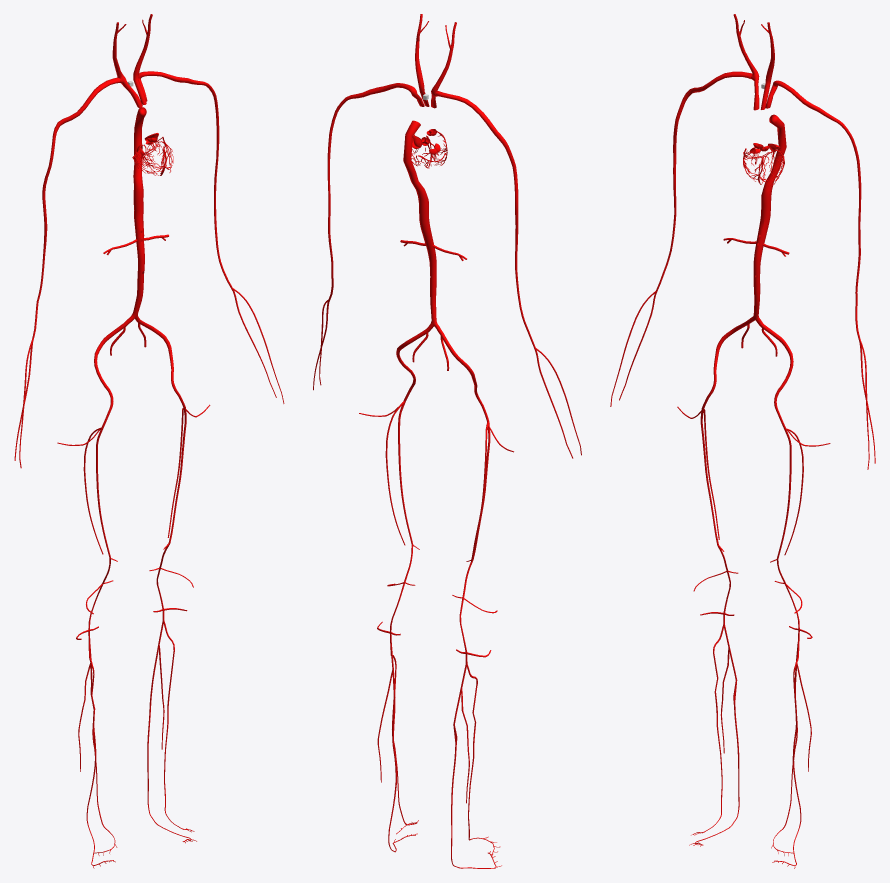
The model's file is venas.gltf.
3 renders of one model, left to right at view 1: azimuth 30°, elevation 25°; view 2: azimuth 150°, elevation 25°; view 3: azimuth 330°, elevation 25°, orthographic.
Visible parts, largest first — view 1: Mesh_100, Mesh_94, Mesh_96, Mesh_92; view 2: Mesh_100, Mesh_94, Mesh_96, Mesh_92; view 3: Mesh_100, Mesh_96, Mesh_94, Mesh_92.
Part boxes in pixels (x1,y1,x2,y2): Mesh_100: (57, 107, 210, 868); Mesh_94: (14, 77, 171, 468); Mesh_96: (138, 71, 284, 403); Mesh_92: (112, 14, 171, 175); Mesh_100: (359, 120, 513, 868); Mesh_94: (422, 91, 581, 458); Mesh_96: (313, 83, 424, 390); Mesh_92: (411, 14, 456, 165); Mesh_100: (677, 114, 830, 868); Mesh_96: (765, 80, 875, 469); Mesh_94: (610, 71, 767, 406); Mesh_92: (733, 14, 784, 185).
Size of the model in its own units: 142 by 432 by 33.07.
